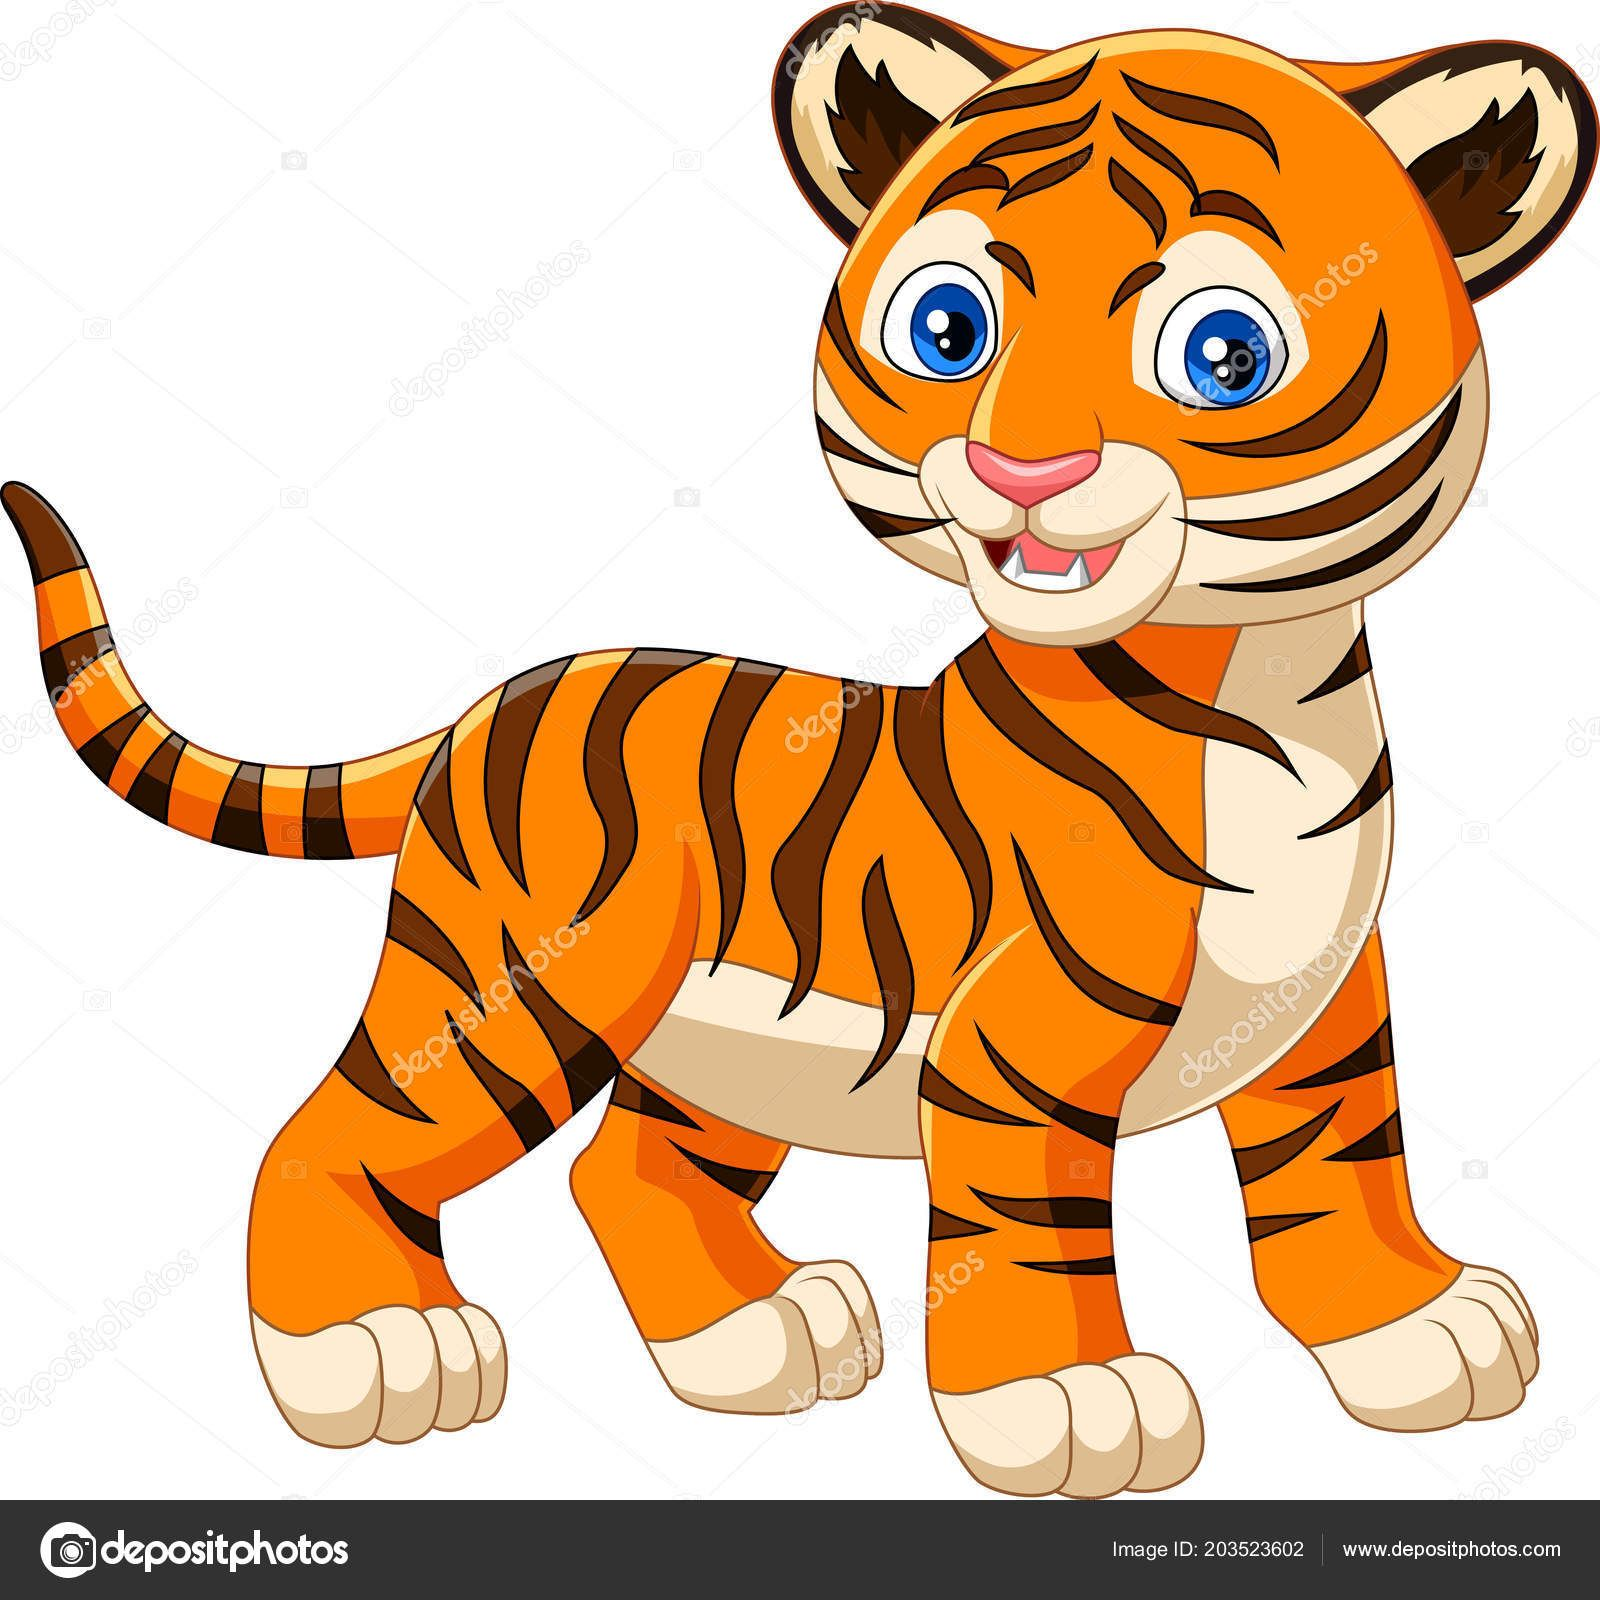Tigrew: (18, 18, 1600, 1459)
